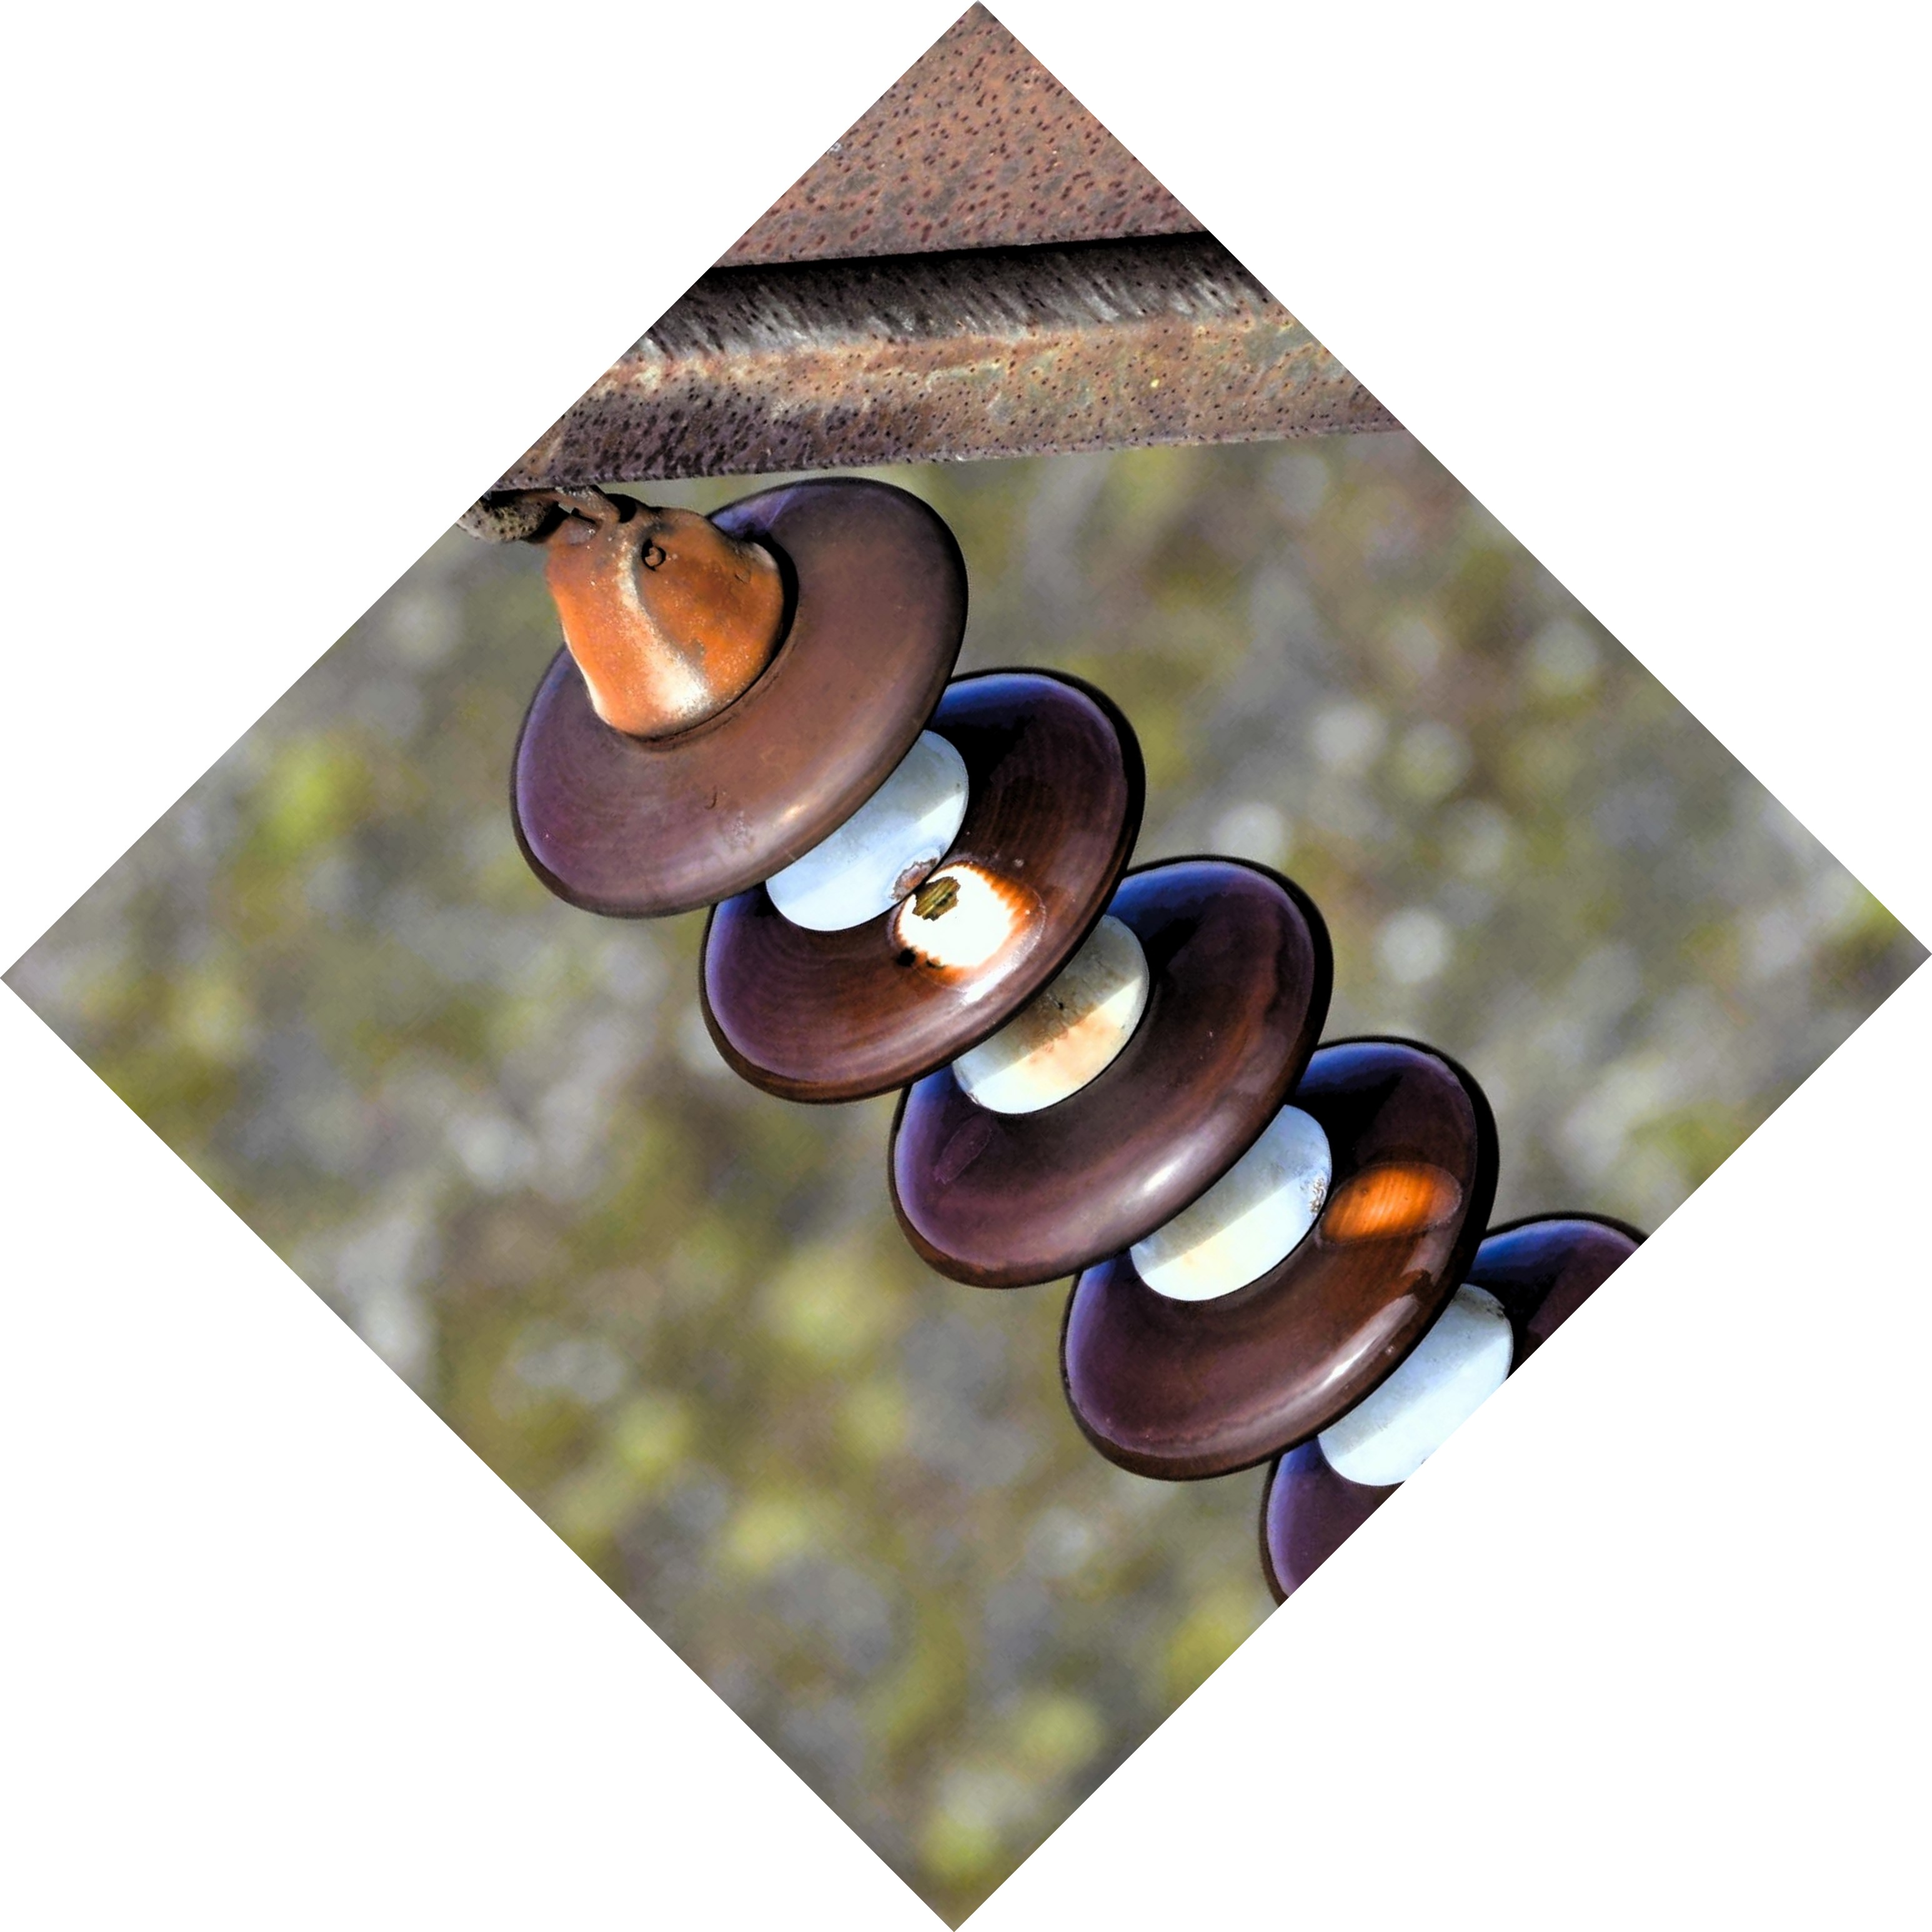Insulator flashover: (1046, 1024, 1543, 1518), (685, 655, 1166, 1111)
